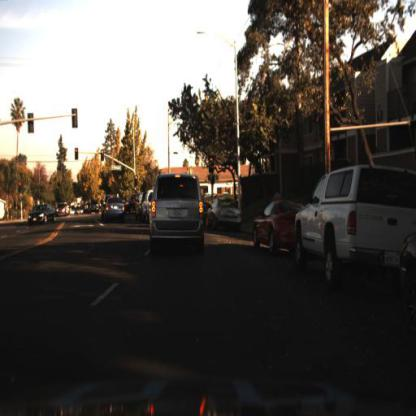car: (296, 158, 405, 303), (295, 165, 416, 285), (145, 163, 211, 259), (251, 197, 297, 263), (207, 191, 247, 239), (102, 194, 127, 226), (26, 204, 56, 230), (141, 186, 158, 226), (103, 196, 129, 222), (86, 197, 102, 219), (53, 201, 68, 222)
pedestrian: (273, 189, 283, 213)
trafficLight-Red: (206, 150, 220, 175), (18, 180, 26, 197), (99, 148, 107, 164), (73, 146, 81, 161), (100, 147, 108, 161), (134, 173, 139, 194), (135, 174, 140, 186)
trafficLight-RedLeft: (74, 145, 82, 163)
